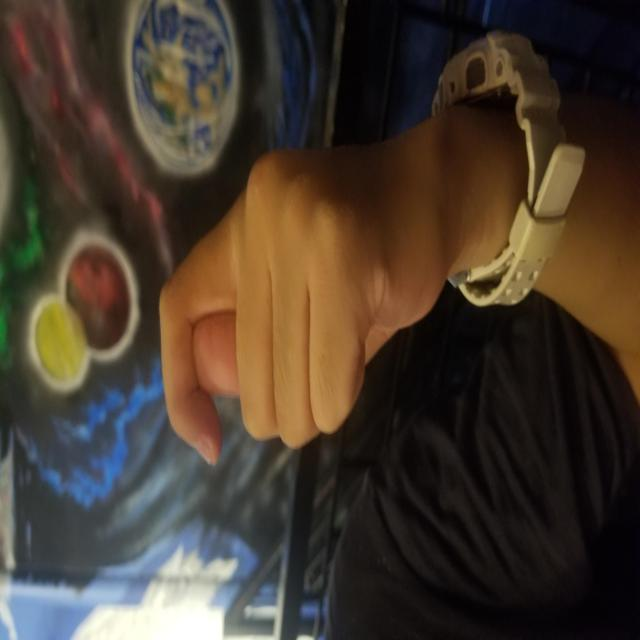T: (169, 159, 502, 449)
